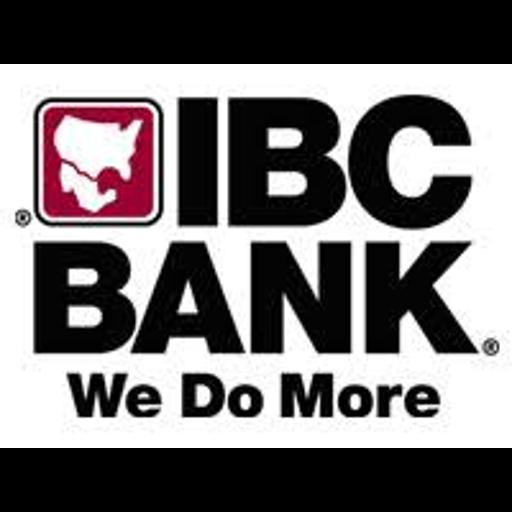IBC Bank: (0, 64, 512, 448)
